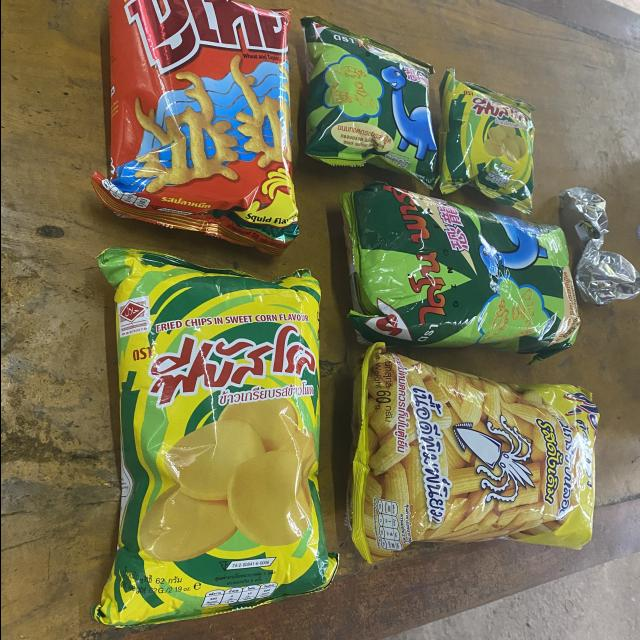plastik: (93, 248, 338, 626), (349, 343, 598, 562), (91, 0, 297, 254), (339, 182, 579, 362), (300, 17, 437, 188), (439, 70, 533, 213), (558, 188, 640, 306)
